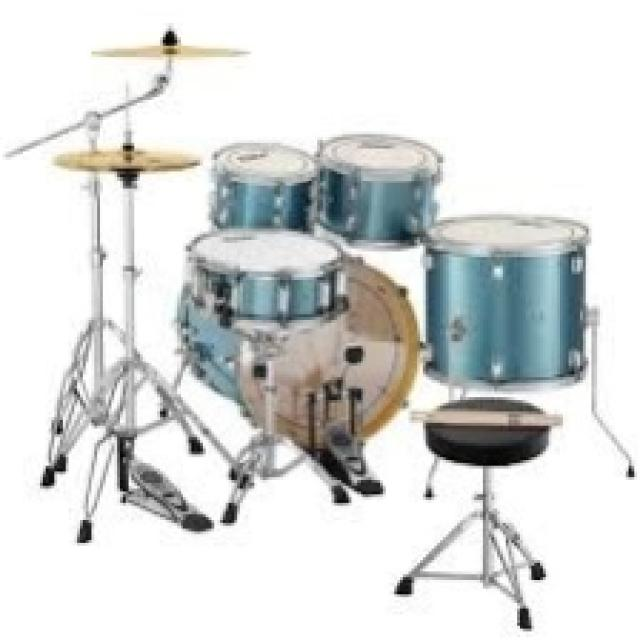drums: (5, 21, 639, 629)
